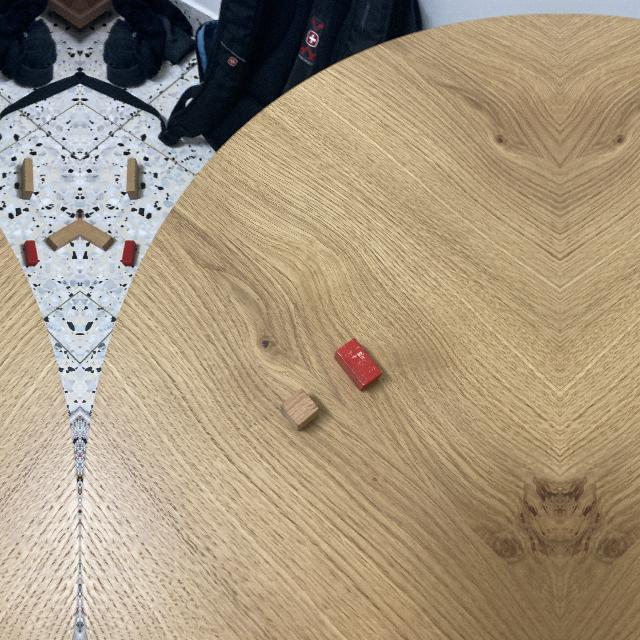cube: (278, 389, 323, 433)
jenga: (80, 218, 116, 251), (44, 218, 80, 251)
red block: (331, 337, 384, 393), (126, 158, 139, 201), (21, 158, 34, 201), (121, 240, 137, 266), (23, 240, 39, 266)
